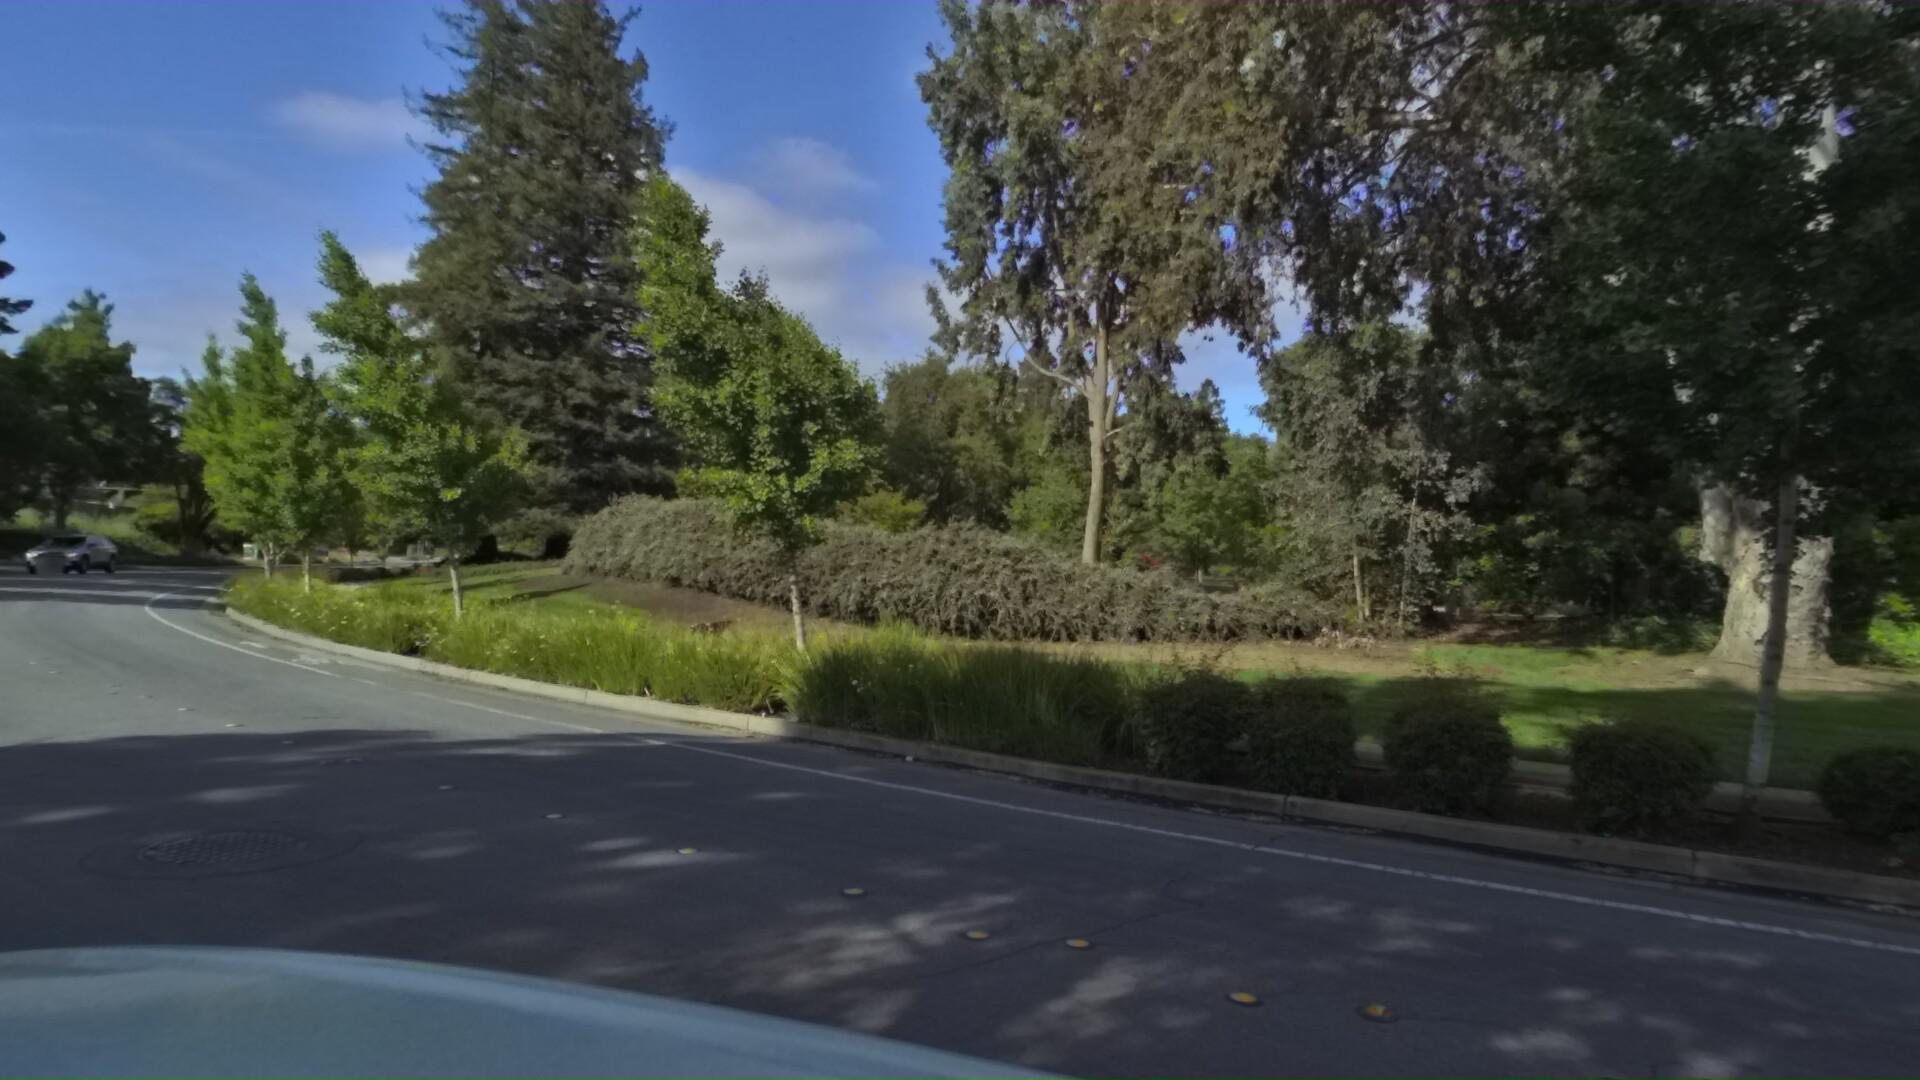car: (25, 531, 136, 578)
